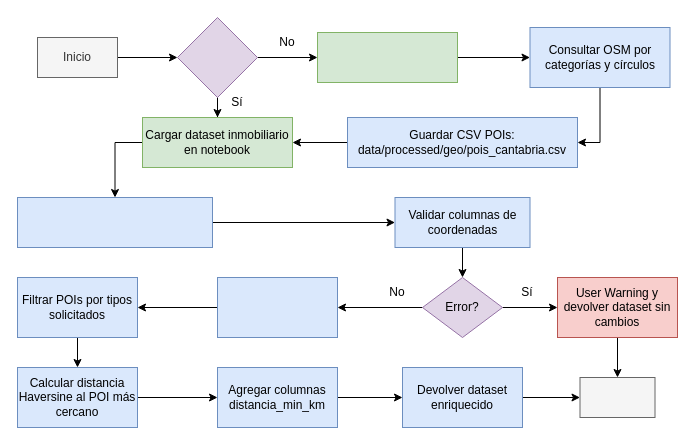
Some shapes in this 695 by 445 pixel diagram are drawn without their labels. The centre of each missing label's shape, as x and y in pixels:
Cargar CSV de POIs: (277,307)
Ejecutar run_descargar_pois.py: (387,57)
Fin: (617,397)
POIs disponibles?: (217,57)
Preparar entorno e importar agregar_distancias_minimas_poi: (114,222)
